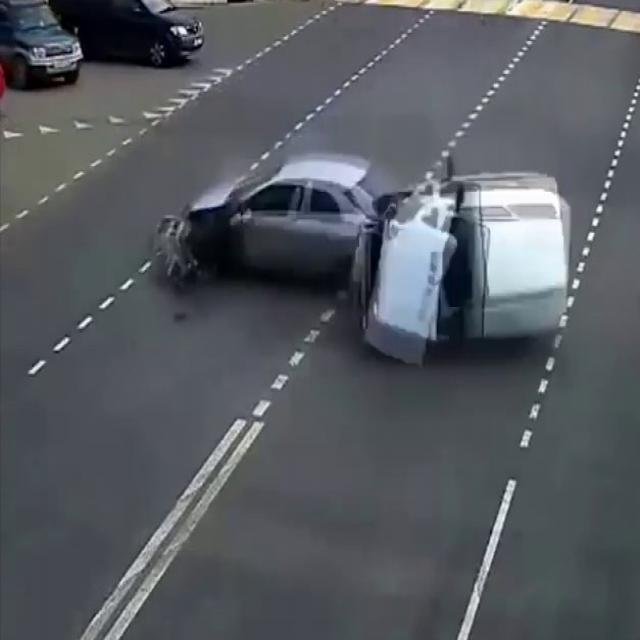accident: (178, 123, 583, 379)
